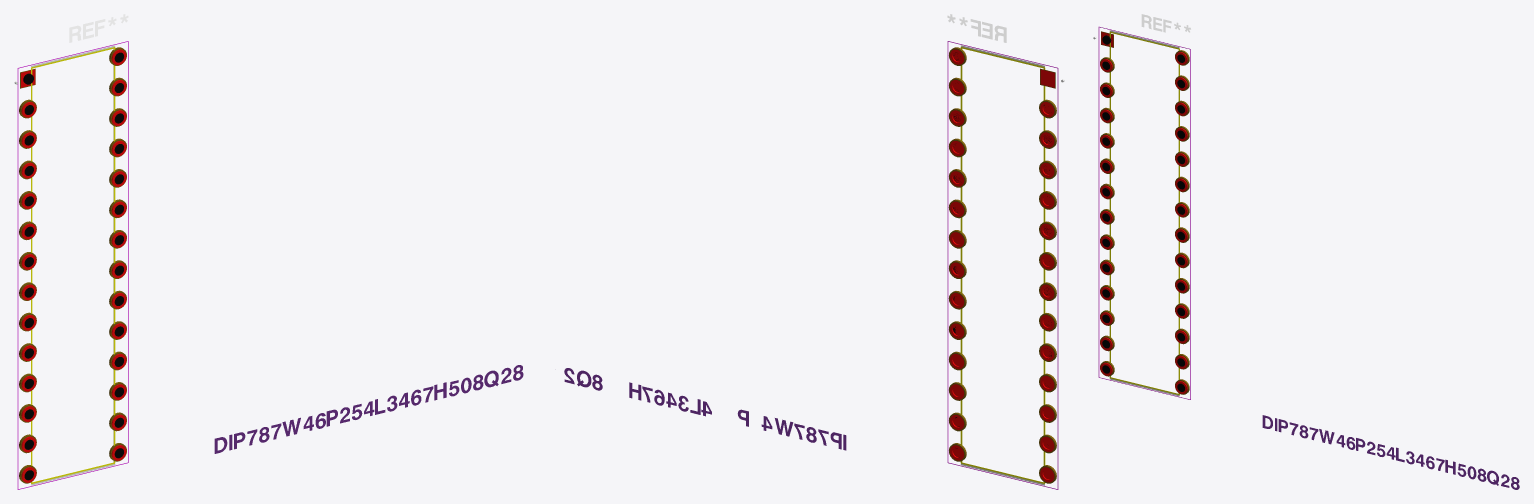
3 renders of one model, left to right at view 1: azimuth 30°, elevation 25°; view 2: azimuth 150°, elevation 25°; view 3: azimuth 330°, elevation 25°, orthographic. The views are drawn at different scales.
Visible parts, largest first — view 1: Body, BodyLine (×2); view 2: BodyLine (×4), Body; view 3: Body, BodyLine.
Boxes of the visible parts, x1,y1,x2,y2 form: Body: [214, 365, 523, 453]; BodyLine (×2): [17, 47, 115, 489]; BodyLine (×4): [947, 41, 1058, 488]; Body: [564, 368, 846, 450]; Body: [1262, 415, 1519, 489]; BodyLine: [1098, 27, 1099, 377].
Size of what is drawn, in the model's own units: 44.55 by 38.65 by 0.45.
